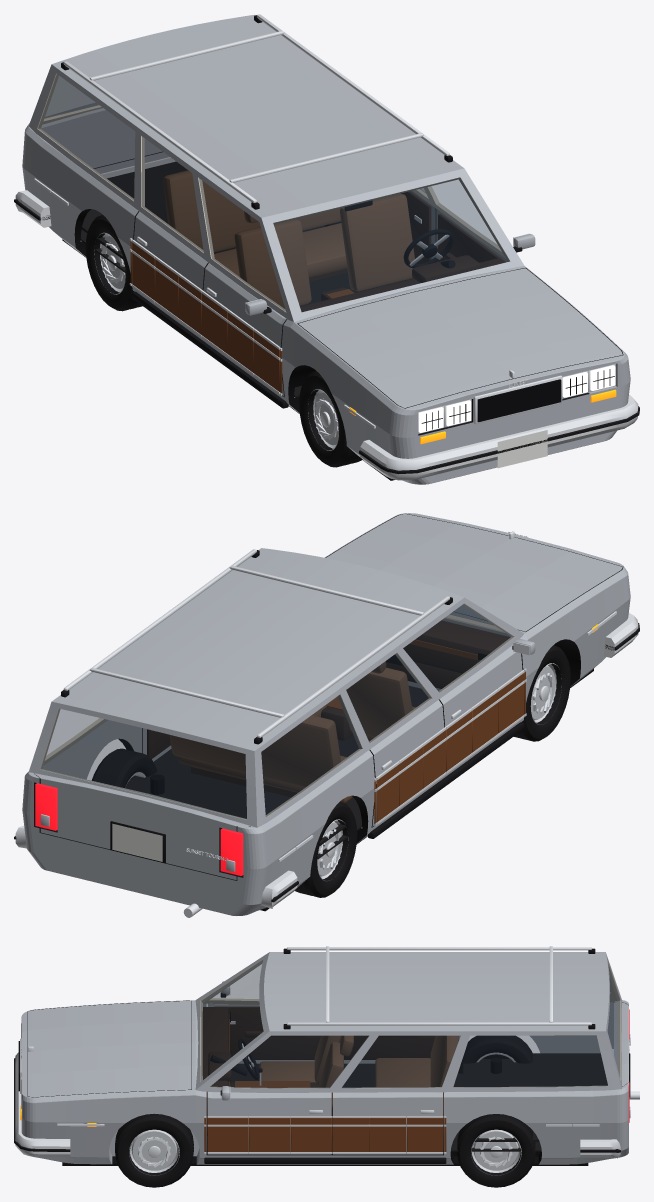
File: sunset-touring.glb
3 renders of one model, top to bottom at view 1: azimuth 30°, elevation 25°; view 2: azimuth 150°, elevation 25°; view 3: azimuth 270°, elevation 25°, orthographic. The views are drawn at different scales.
Visible parts, largest first — view 1: Body, Hood, Windows, Interior, Door_FR, Door_RR, Glass_Door_F_R, Tailgate, Glass_Door_R_R, Lights, Tire_FR, Tire_RR (+7 smaller); view 2: Body, Interior, Hood, Glass_Rear, Tailgate, Door_FR, Windows, Door_RR, Glass_Door_F_R, Glass_Door_R_R, Tire_RR, Tire_FR (+5 smaller); view 3: Body, Hood, Interior, Windows, Door_FL, Door_RL, Glass_Door_F_L, Glass_Door_R_L, Tire_FL, Tire_RL, DoorCard_FR, Rim_FL (+7 smaller).
Boxes of the visible parts, x1,y1,x2,y2 form: Body: (14, 14, 639, 484); Hood: (298, 268, 622, 408); Windows: (38, 74, 509, 311); Interior: (80, 161, 504, 397); Door_FR: (201, 263, 287, 396); Door_RR: (131, 211, 208, 336); Glass_Door_F_R: (199, 178, 285, 311); Tailgate: (41, 103, 162, 168); Glass_Door_R_R: (142, 137, 203, 252); Lights: (349, 365, 616, 444); Tire_FR: (299, 371, 361, 467); Tire_RR: (85, 215, 142, 311); Body: (14, 513, 639, 915); Interior: (125, 620, 510, 859); Hood: (326, 513, 622, 631); Glass_Rear: (41, 709, 246, 819); Tailgate: (29, 701, 257, 880); Door_FR: (439, 638, 535, 773); Windows: (261, 605, 492, 816); Door_RR: (369, 700, 446, 826); Glass_Door_F_R: (403, 604, 513, 692); Glass_Door_R_R: (346, 653, 431, 742); Tire_RR: (295, 801, 357, 897); Tire_FR: (513, 645, 570, 741); Body: (14, 946, 630, 1164); Hood: (28, 1000, 191, 1097); Interior: (202, 1007, 607, 1151); Windows: (201, 960, 607, 1087); Door_FL: (207, 1086, 331, 1154); Door_RL: (332, 1092, 443, 1154); Glass_Door_F_L: (210, 1036, 368, 1088); Glass_Door_R_L: (342, 1036, 460, 1087); Tire_FL: (115, 1113, 193, 1187); Tire_RL: (457, 1114, 535, 1187); DoorCard_FR: (215, 1006, 320, 1059); Rim_FL: (129, 1129, 179, 1175).
Size of the model in its own units: 2.29 by 1.53 by 5.4.
